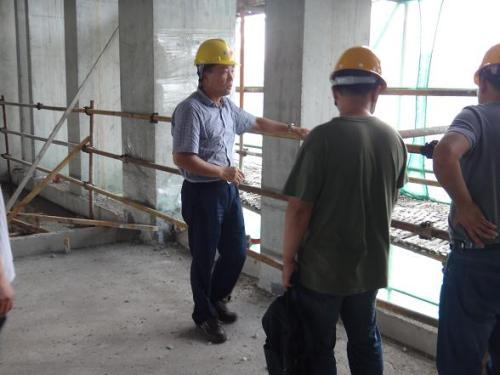helmet: (324, 42, 389, 119), (191, 35, 236, 97), (470, 37, 499, 123)
